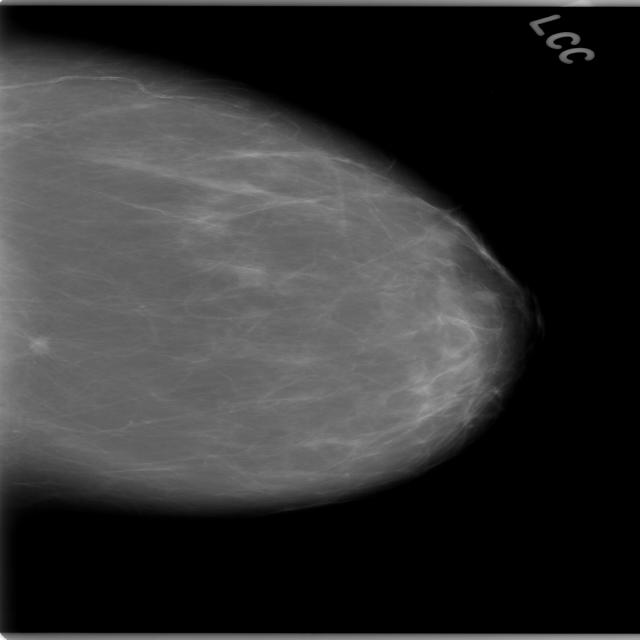normal: (0, 47, 528, 520)
